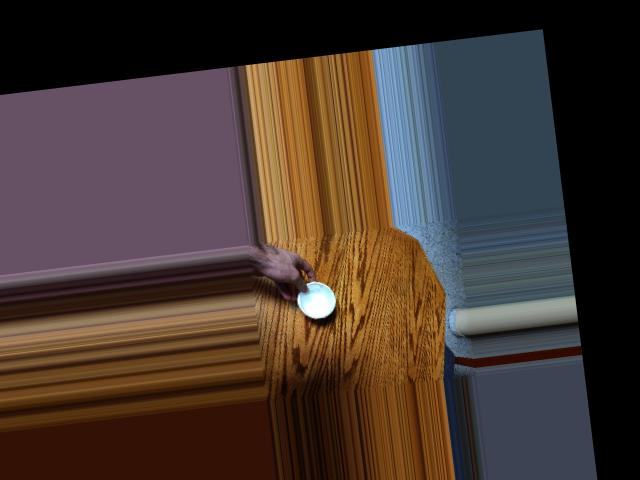cotage: (293, 279, 338, 323)
